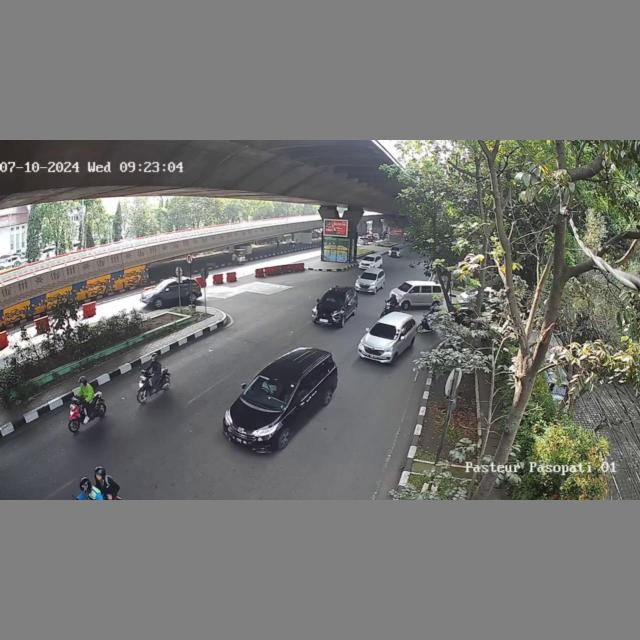windshield: (242, 373, 299, 407), (370, 320, 404, 341), (319, 290, 347, 309), (358, 272, 379, 279)
